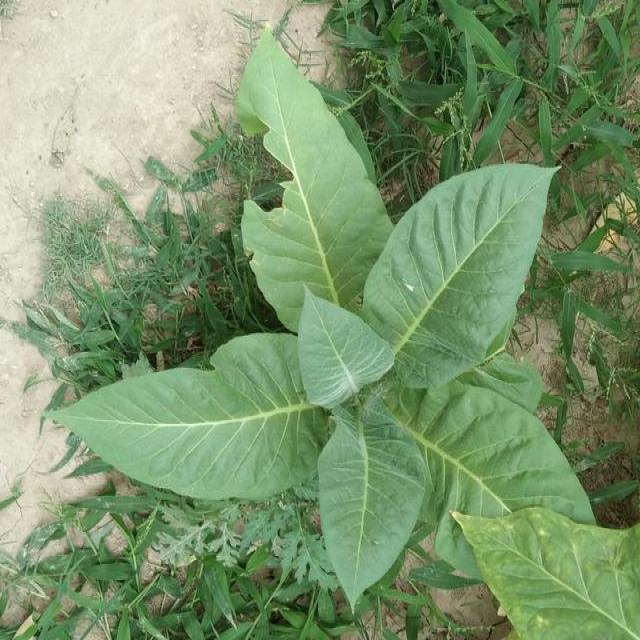crop: (38, 34, 602, 618)
